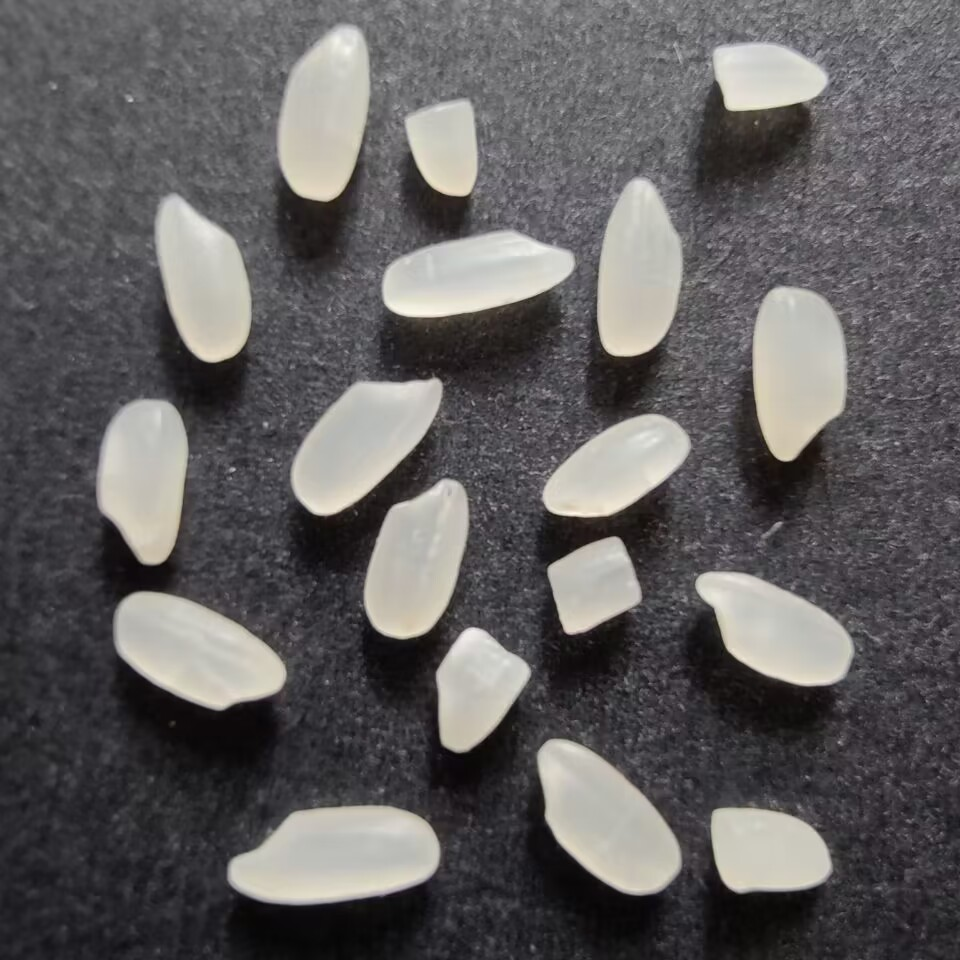broken: (430, 622, 537, 757), (708, 804, 838, 899), (544, 533, 644, 641), (707, 36, 834, 117), (398, 96, 484, 204)
rice: (531, 738, 688, 900), (220, 795, 442, 907), (290, 369, 449, 518), (106, 589, 290, 717), (693, 564, 860, 690), (749, 281, 853, 462), (378, 226, 580, 319), (362, 477, 475, 643), (273, 18, 373, 204), (148, 191, 254, 365), (91, 392, 191, 570), (594, 174, 687, 364), (538, 409, 695, 519)
